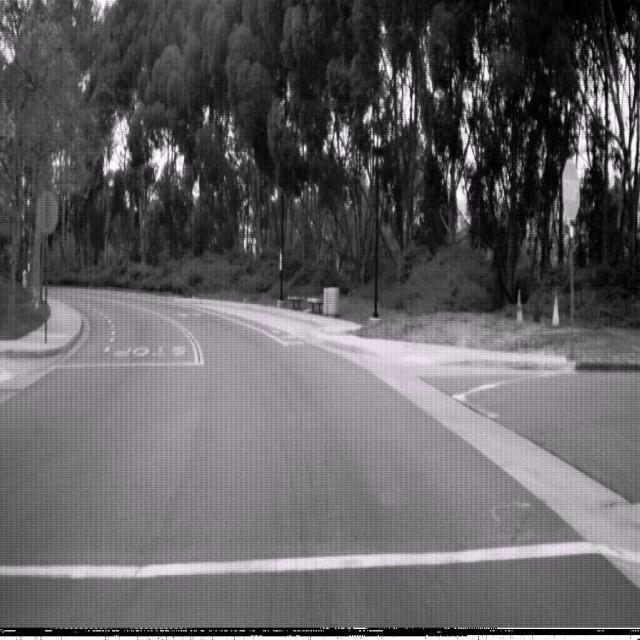stop: (561, 158, 580, 221)
